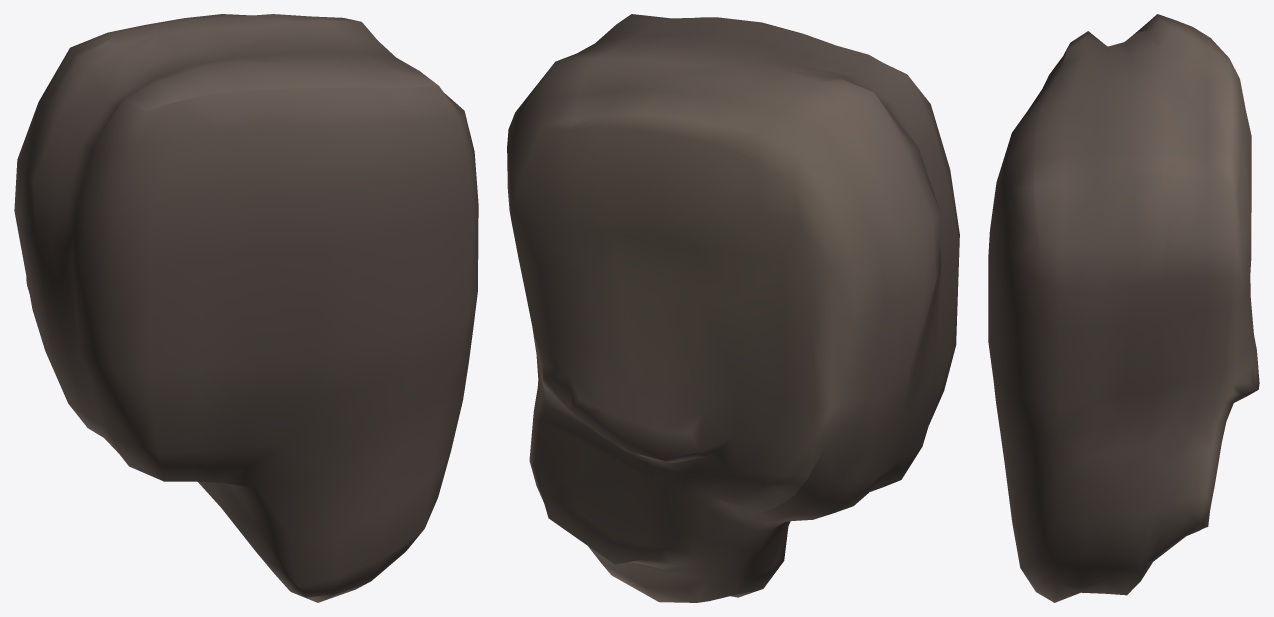
File: RockMedium.004.glb
3 renders of one model, left to right at view 1: azimuth 30°, elevation 25°; view 2: azimuth 150°, elevation 25°; view 3: azimuth 270°, elevation 25°, orthographic. The views are drawn at different scales.
Visible parts, largest first — view 1: RockMedium.004; view 2: RockMedium.004; view 3: RockMedium.004.
Boxes of the visible parts, box(x1,y1,x2,y2) form: RockMedium.004: box(14, 14, 478, 602); RockMedium.004: box(507, 14, 959, 602); RockMedium.004: box(988, 14, 1259, 602).
Bounding box in the file's own units: 354 × 471 × 231.
